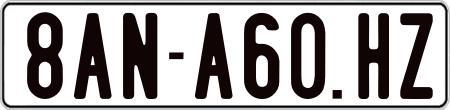0: (291, 12, 330, 102)
6: (241, 11, 279, 97)
8: (26, 12, 63, 103)
A: (194, 13, 233, 102), (74, 10, 112, 99)
H: (356, 11, 388, 100)
N: (121, 10, 158, 101)
Z: (398, 11, 433, 101)
